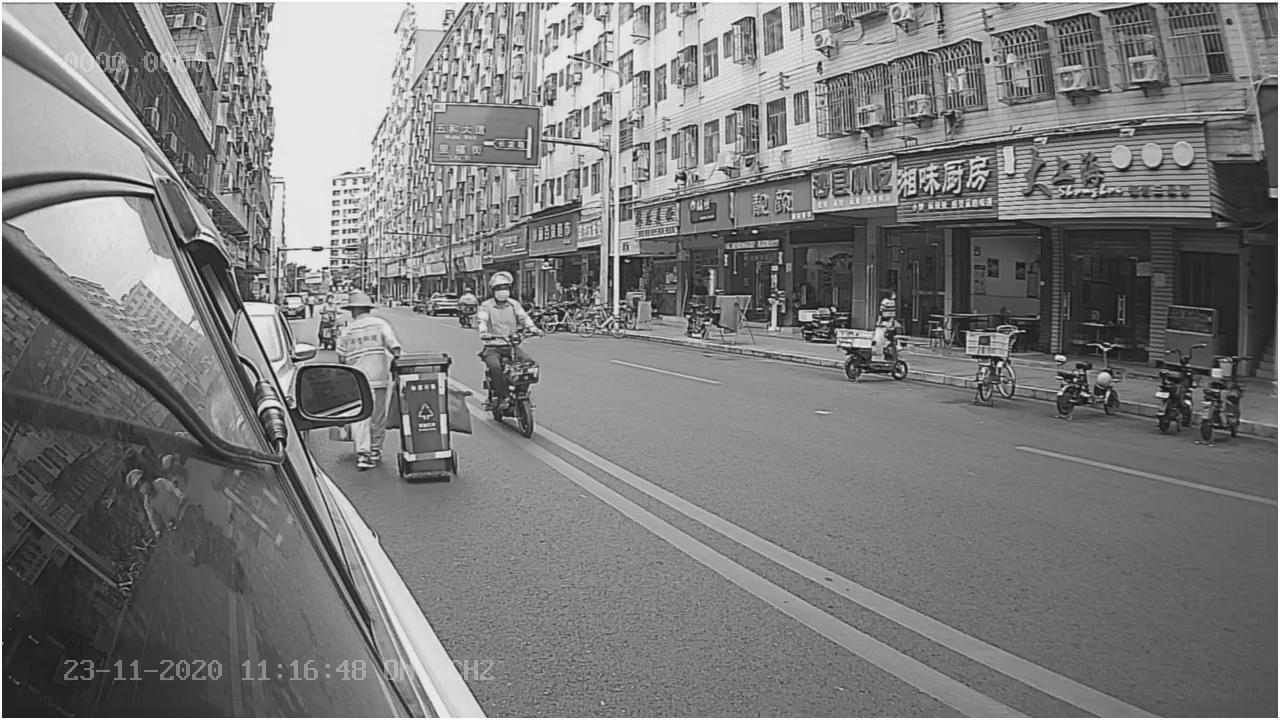person: (475, 268, 542, 331)
